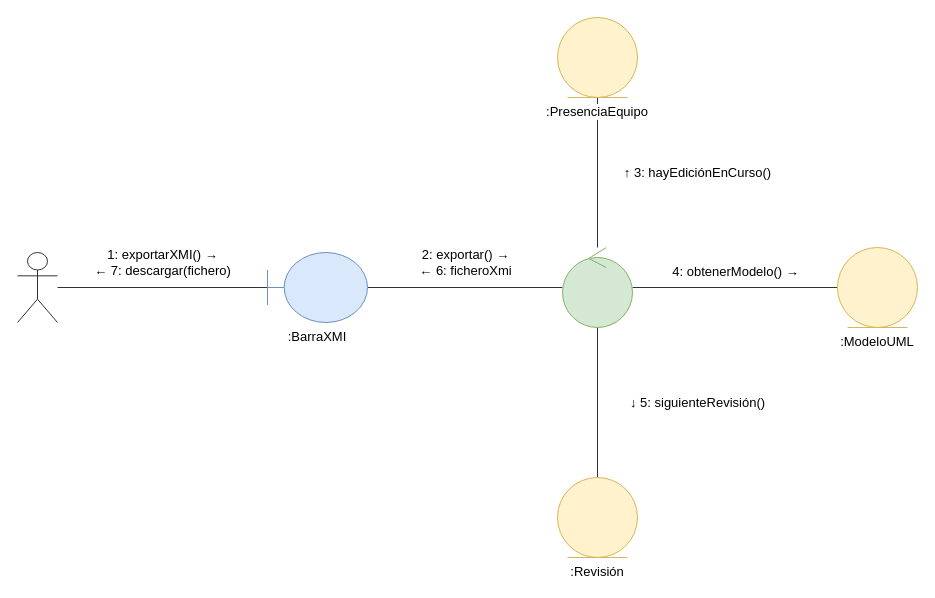
This 935x598 diagram has some shape labels left out. Here are the shapes that lost their labels. From the top down, the centre of each, then its label:
the point at 37,287: Lector
the point at 597,287: :GestorXMI
